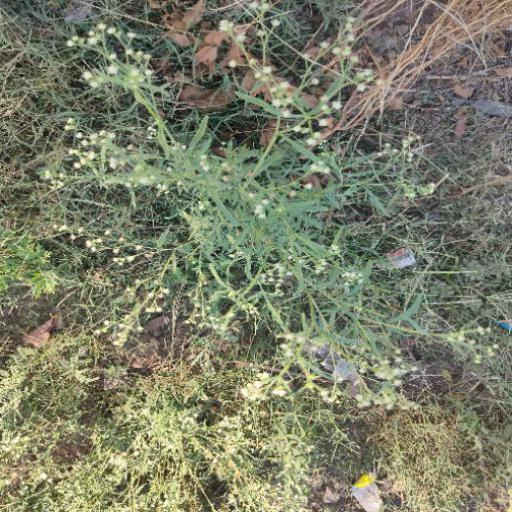weed: (15, 58, 421, 452)
